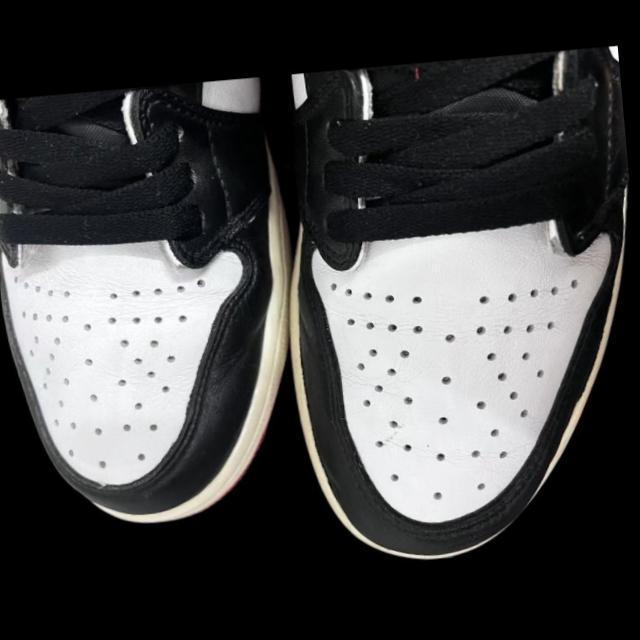nike original jordan 1: (267, 46, 640, 572), (0, 73, 313, 541)
